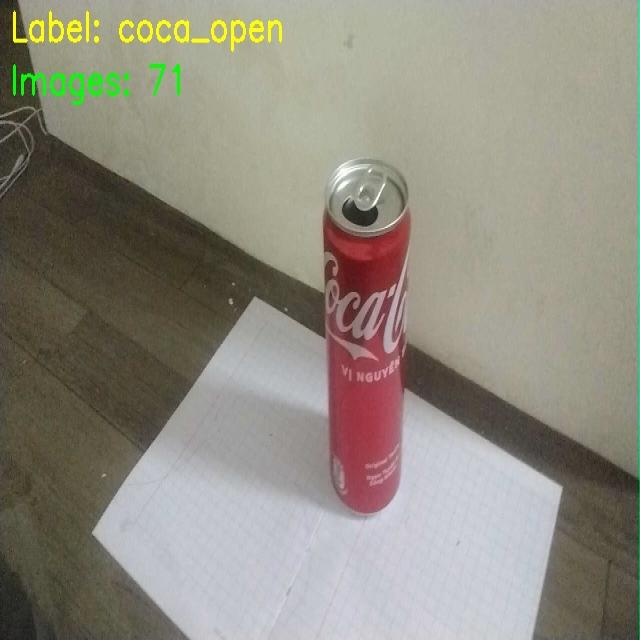Coca_open: (317, 150, 420, 523)
